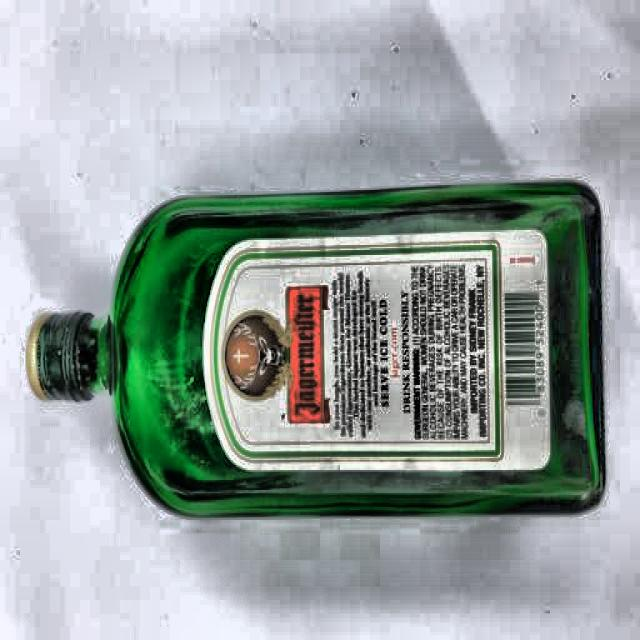glass: (24, 180, 611, 518)
